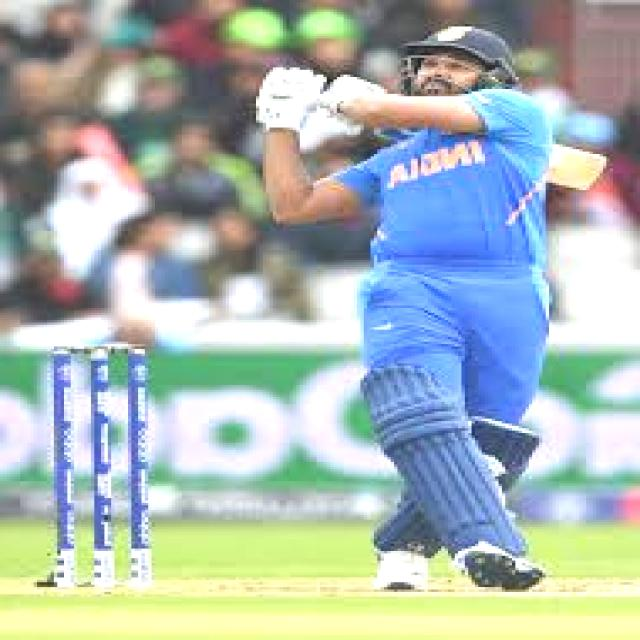toe: (562, 151, 614, 189)
